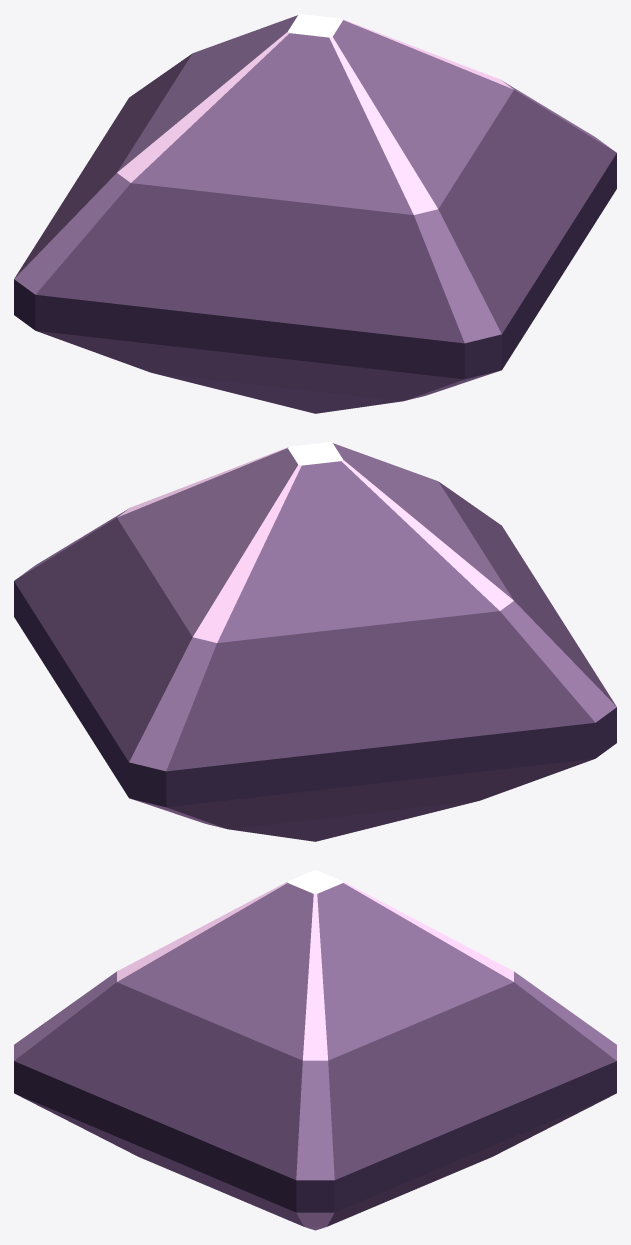
File: gem_pyramid_purple.glb
The picture shows the model from 3 angles, top to bottom: view 1: azimuth 30°, elevation 25°; view 2: azimuth 150°, elevation 25°; view 3: azimuth 270°, elevation 25°; orthographic projection. The views are drawn at different scales.
Parts seen in each view (by area): view 1: gem_pyramid_purple; view 2: gem_pyramid_purple; view 3: gem_pyramid_purple.
Boxes of the visible parts, x1,y1,x2,y2 form: gem_pyramid_purple: [14, 14, 616, 413]; gem_pyramid_purple: [14, 442, 616, 841]; gem_pyramid_purple: [14, 870, 616, 1230].
Size of the model in its own units: 11.84 by 7.55 by 11.84.
